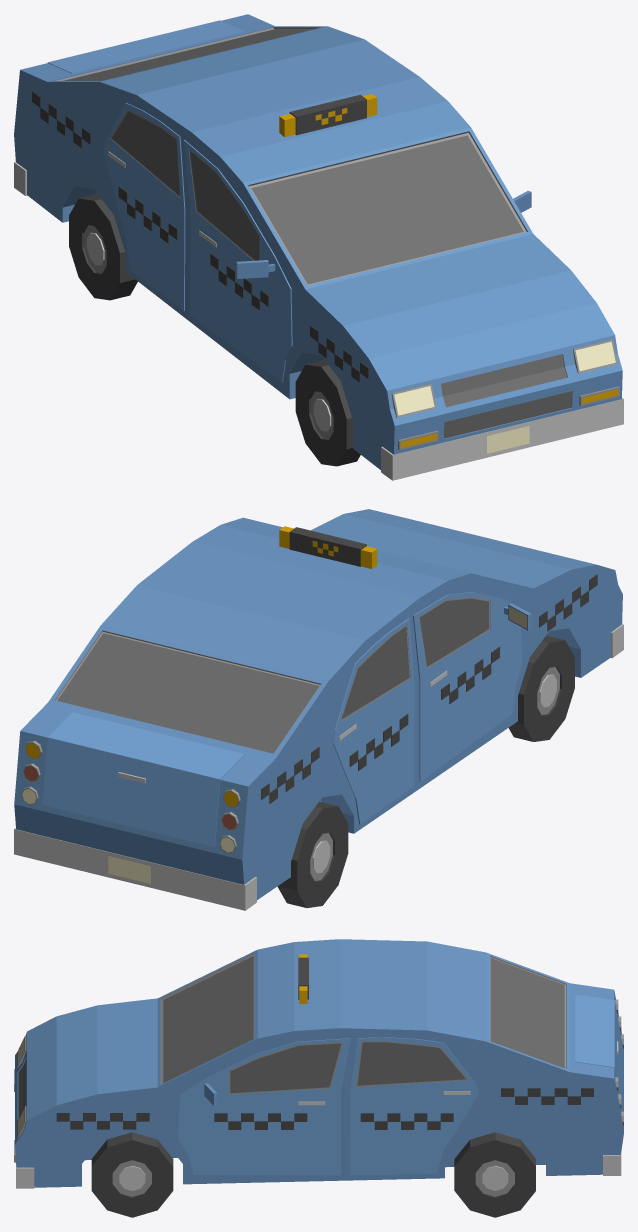
The model's file is Taxi.fbx.
The picture shows the model from 3 angles, top to bottom: view 1: azimuth 30°, elevation 25°; view 2: azimuth 150°, elevation 25°; view 3: azimuth 270°, elevation 25°; orthographic projection. The views are drawn at different scales.
Visible parts, largest first — view 1: et_1, Cylinder_2_1, Cylinder_2_1_2; view 2: et_1, Cylinder_2_1, Cylinder_2_1_2; view 3: et_1, Cylinder_2_2, Cylinder_2.
Part boxes in pixels (x1,y1,x2,y2): et_1: (14,14,623,480); Cylinder_2_1: (69,194,137,300); Cylinder_2_1_2: (295,360,360,466); et_1: (14,509,623,910); Cylinder_2_1: (277,801,348,907); Cylinder_2_1_2: (509,635,574,741); et_1: (14,939,623,1188); Cylinder_2_2: (91,1132,173,1217); Cylinder_2: (454,1132,535,1217).
Size of the model in its own units: 169 by 138 by 379.
